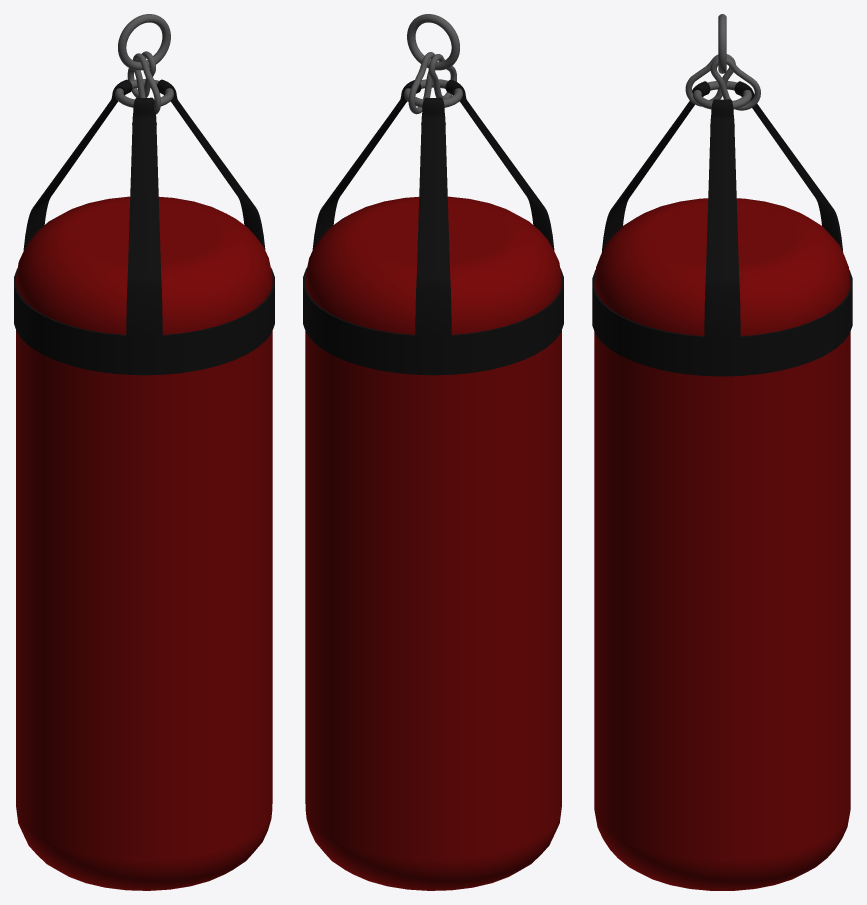
Rendered from punchingbag_blender.obj.
3 renders of one model, left to right at view 1: azimuth 30°, elevation 25°; view 2: azimuth 150°, elevation 25°; view 3: azimuth 270°, elevation 25°, orthographic.
Parts seen in each view (by area): view 1: punchbag_v12; view 2: punchbag_v12; view 3: punchbag_v12.
Boxes of the visible parts, x1=… form: punchbag_v12: x1=14, y1=14, x2=274, y2=890; punchbag_v12: x1=303, y1=14, x2=563, y2=890; punchbag_v12: x1=592, y1=14, x2=852, y2=890.
Bounding box in the file's own units: 0.3782 × 1.34 × 0.3771.
